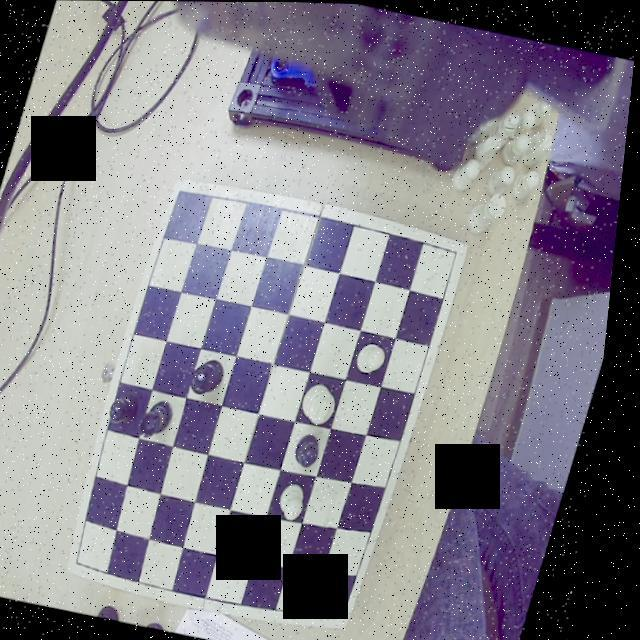chess-table-corners: (173, 180, 200, 208), (446, 238, 472, 264), (345, 598, 367, 628), (80, 552, 104, 576)
